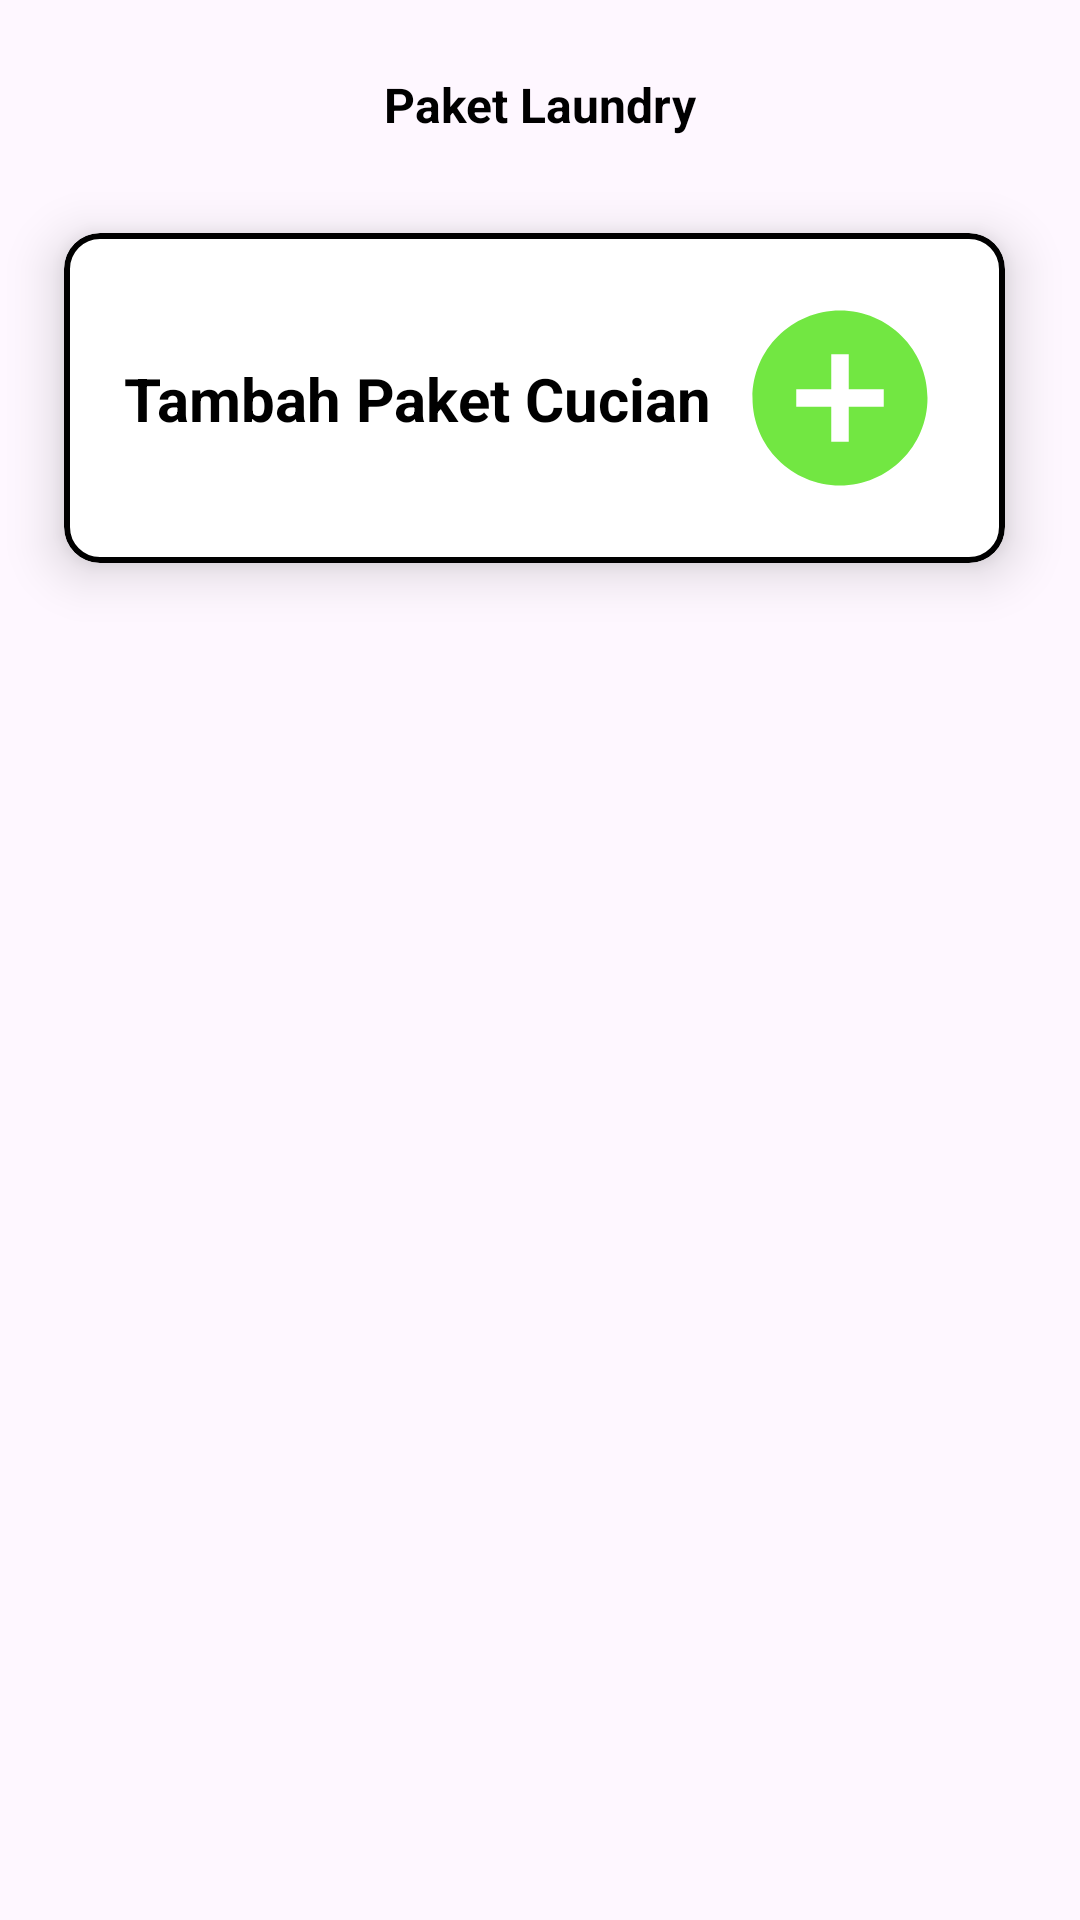

Icon bounding boxes for this 1080×1920 phone screenshot, format (x1, y1, x2, y2):
add circle: (752, 310, 928, 486)
